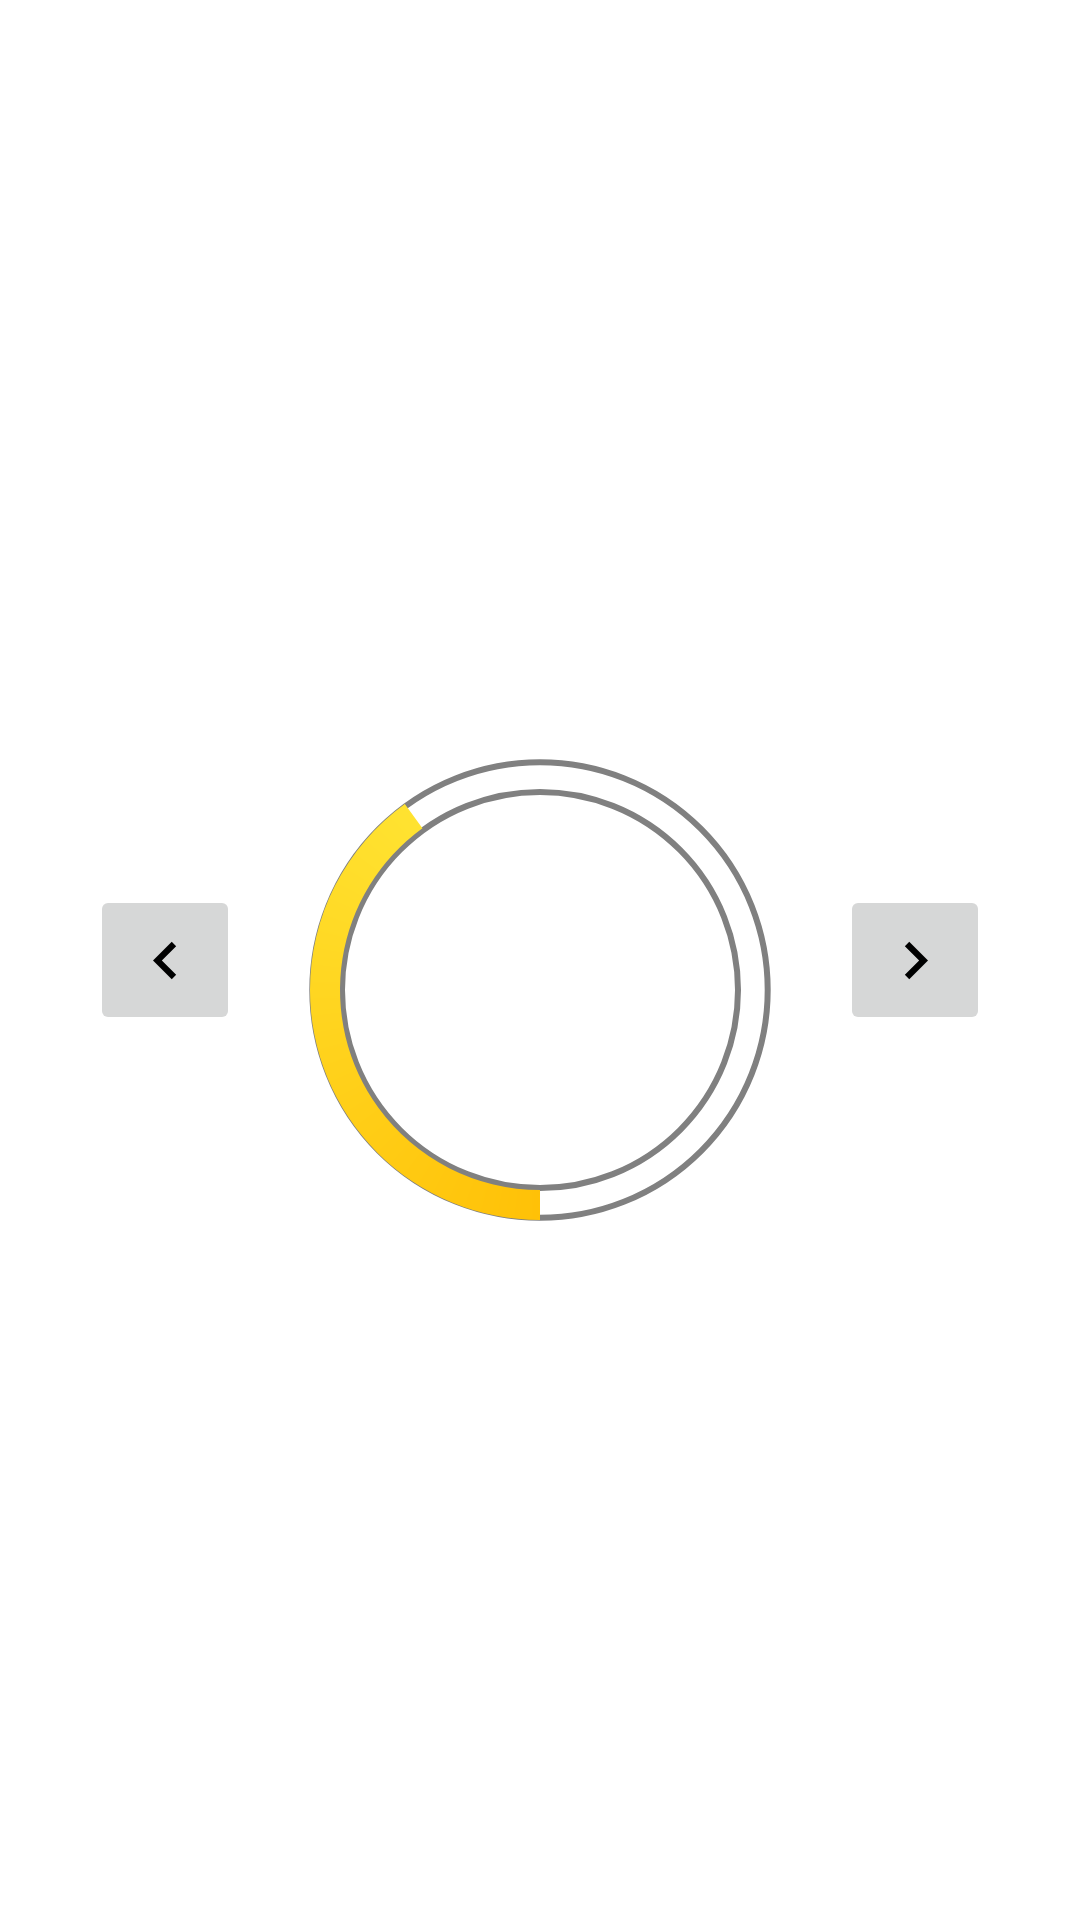

Named icons in this screenshot (1080w x 1920h) and their centers, point (x, y):
Pfeil Home links: point (165, 960)
Pfeil Home rechts: point (915, 960)
